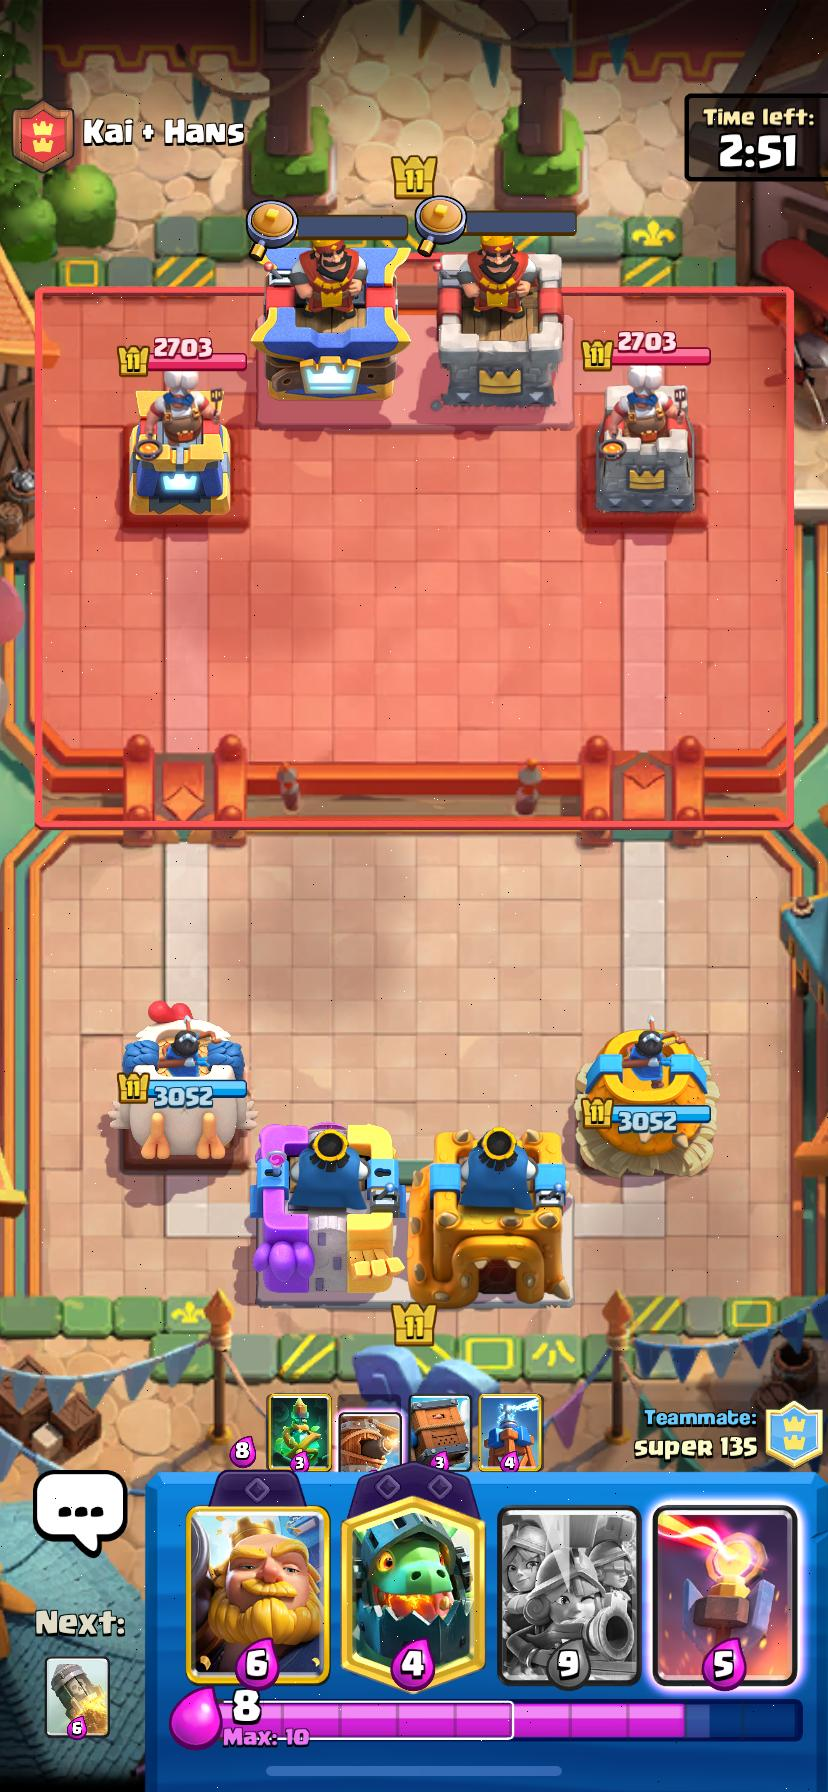EKingTower: (250, 237, 411, 399), (433, 245, 563, 409)
EnemyPanTower: (595, 367, 694, 515), (130, 373, 229, 515)
OwnKingTower: (408, 1127, 571, 1306), (250, 1123, 403, 1303)
OwnPrincessTower: (109, 1001, 255, 1160), (576, 1018, 716, 1175)
